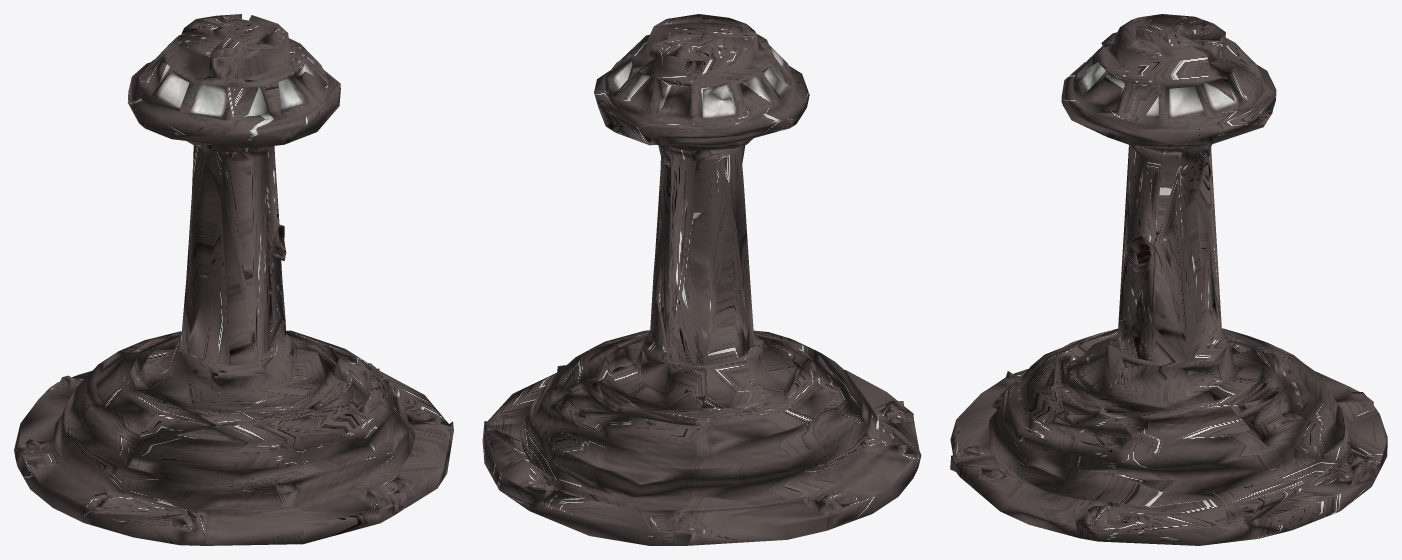
The model's file is pad_beacon.glb.
The picture shows the model from 3 angles, left to right: view 1: azimuth 30°, elevation 25°; view 2: azimuth 150°, elevation 25°; view 3: azimuth 270°, elevation 25°; orthographic projection.
Visible parts, largest first — view 1: tripo_node_4fd8cbbb-d53b-47de-9d88-c5a20696612b; view 2: tripo_node_4fd8cbbb-d53b-47de-9d88-c5a20696612b; view 3: tripo_node_4fd8cbbb-d53b-47de-9d88-c5a20696612b.
Part boxes in pixels (x1,y1,x2,y2): tripo_node_4fd8cbbb-d53b-47de-9d88-c5a20696612b: (14, 14, 453, 545); tripo_node_4fd8cbbb-d53b-47de-9d88-c5a20696612b: (482, 14, 921, 545); tripo_node_4fd8cbbb-d53b-47de-9d88-c5a20696612b: (950, 14, 1387, 545).
Bounding box in the file's own units: 0.9295 × 0.9989 × 0.9309.
1 material, 1 textured.
